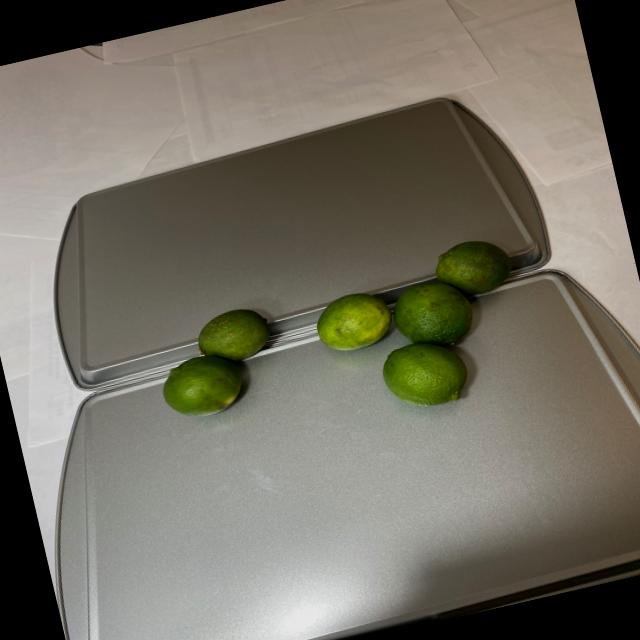lemon: (300, 230, 546, 433), (137, 294, 302, 436)
